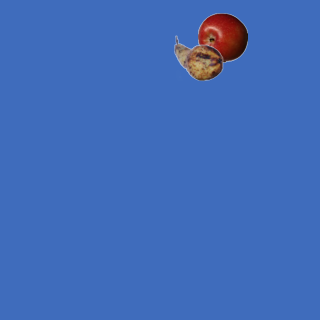Apple Braeburn: (197, 12, 247, 62)
Pear Abate: (173, 33, 223, 83)
